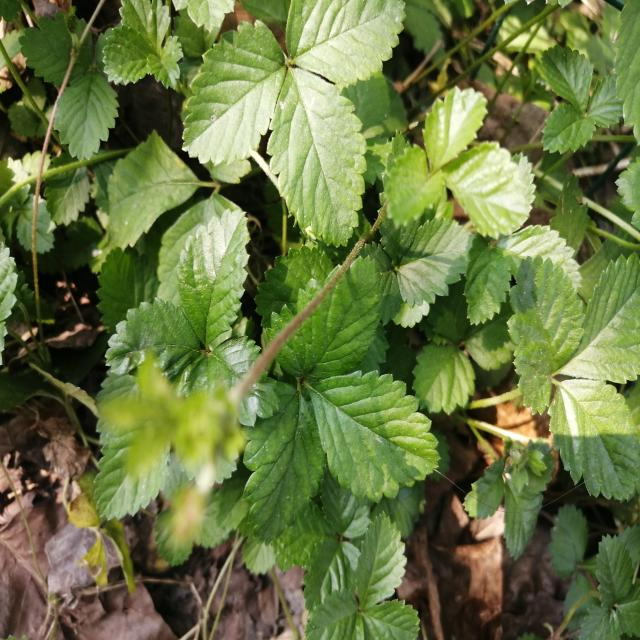Mock_strawberry: (243, 258, 451, 512)
